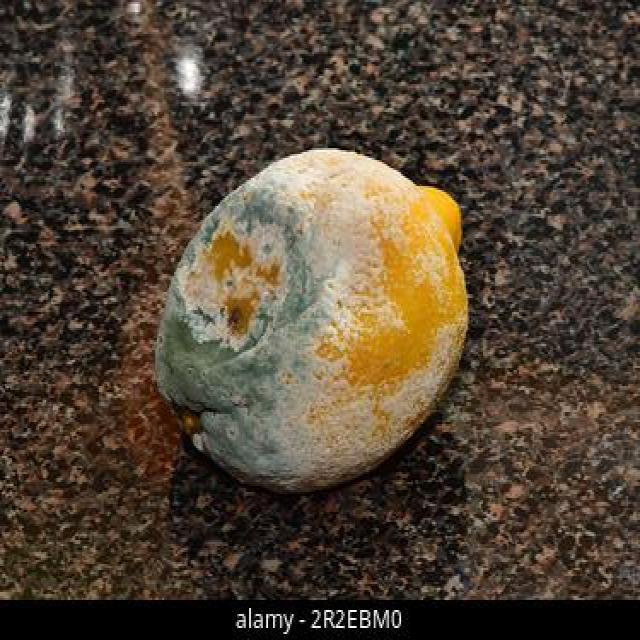Rotten: (154, 147, 474, 496)
